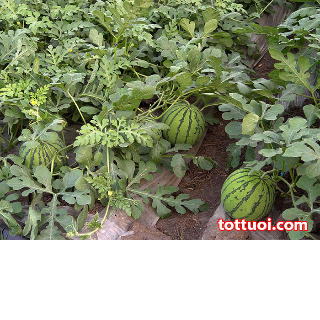dua_hau: (219, 165, 278, 225), (159, 99, 209, 149)
